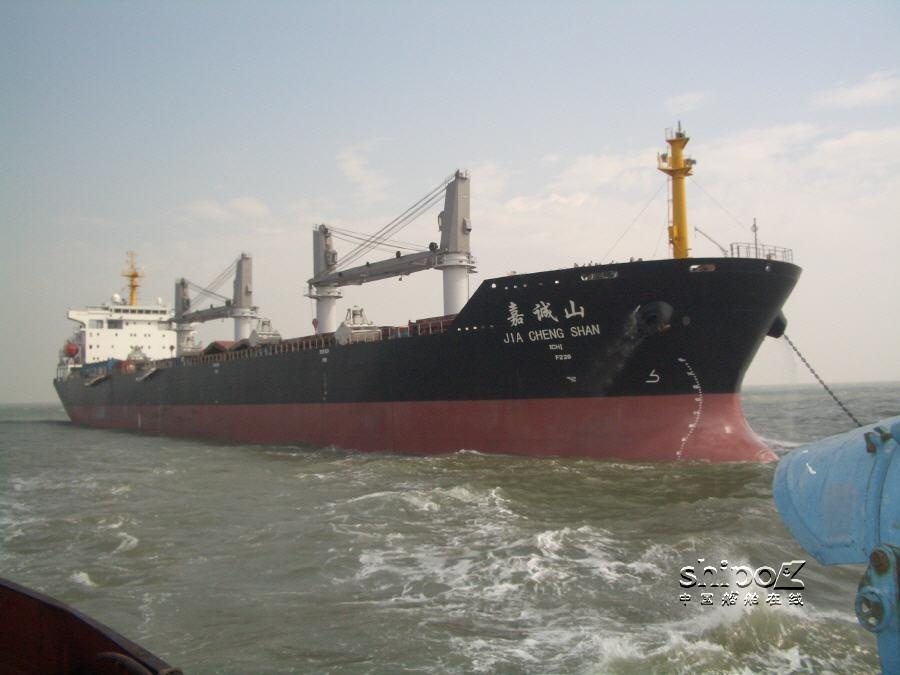Cargoship: (45, 121, 838, 469)
